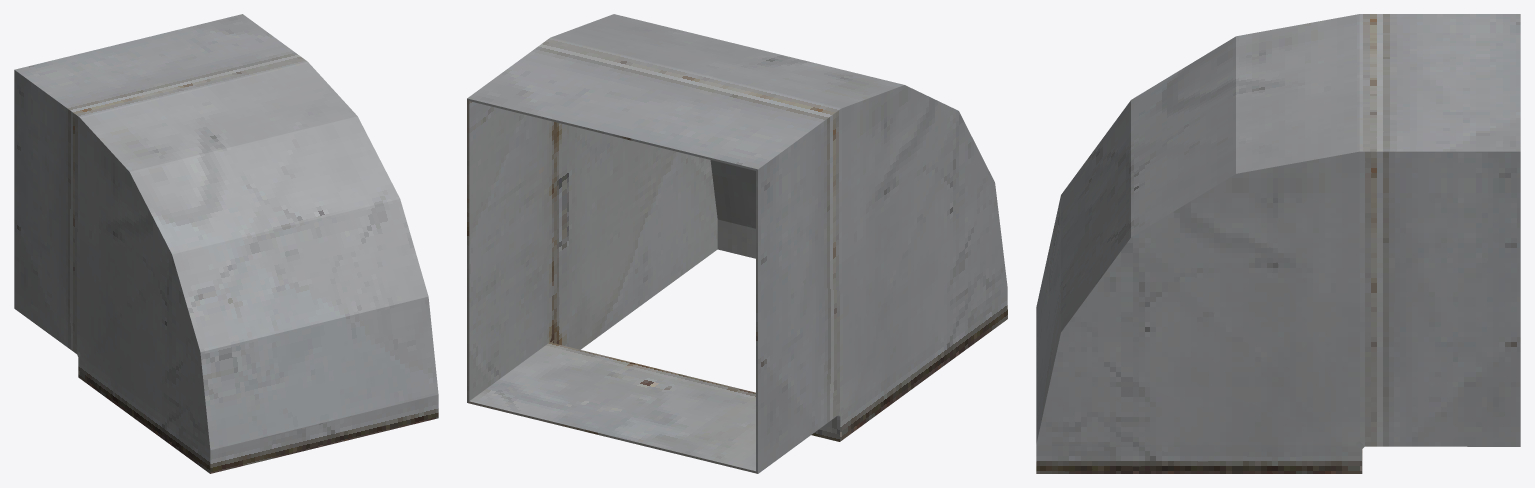
File: vent_end.glb
3 views of the same model, side by side, from view 1: azimuth 30°, elevation 25°; view 2: azimuth 150°, elevation 25°; view 3: azimuth 270°, elevation 25° (orthographic). The views are drawn at different scales.
Visible parts, largest first — view 1: end; view 2: end; view 3: end.
Boxes of the visible parts, x1,y1,x2,y2 form: end: (14, 14, 438, 473); end: (467, 14, 1007, 473); end: (1036, 14, 1520, 473).
Size of the model in its own units: 1.02 by 1.11 by 1.51.
Materials: 1 (1 with a texture image).
